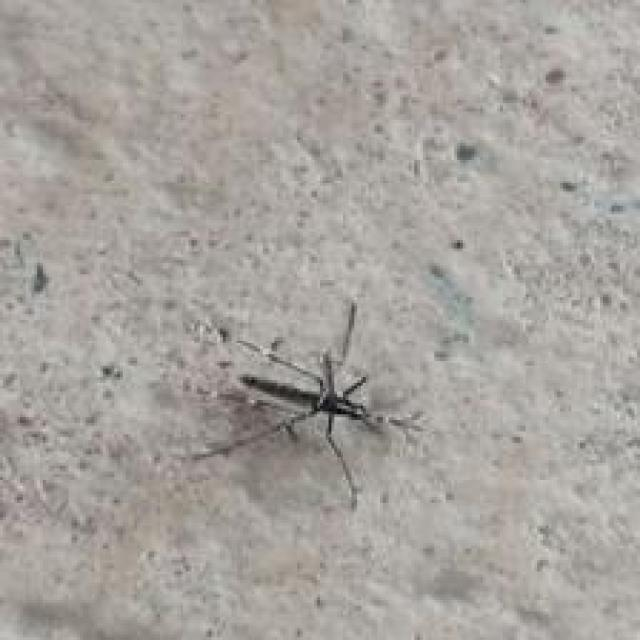Aedes albopictus: (185, 299, 428, 510)
